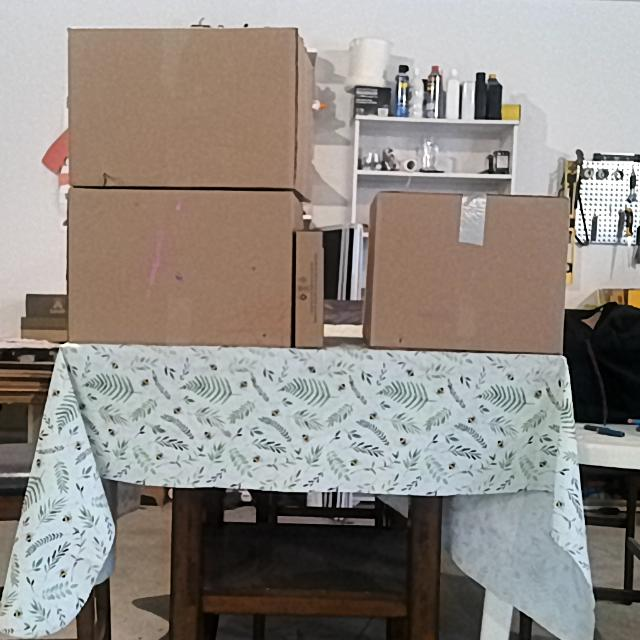box: (68, 27, 295, 187), (69, 188, 294, 349), (373, 194, 570, 353), (293, 232, 323, 349)
